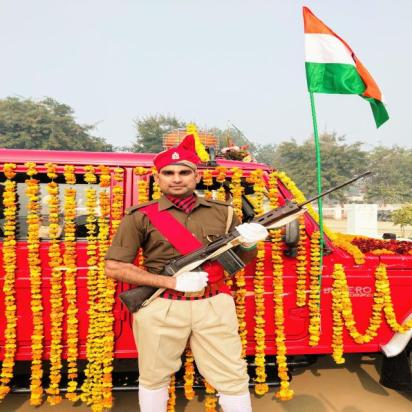Gun: (117, 170, 372, 314)
